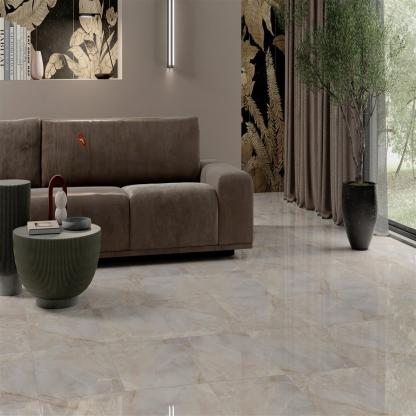Ceramic floor: (0, 231, 416, 416)
Curtains: (282, 0, 369, 221)
Sofa: (0, 117, 254, 262)
